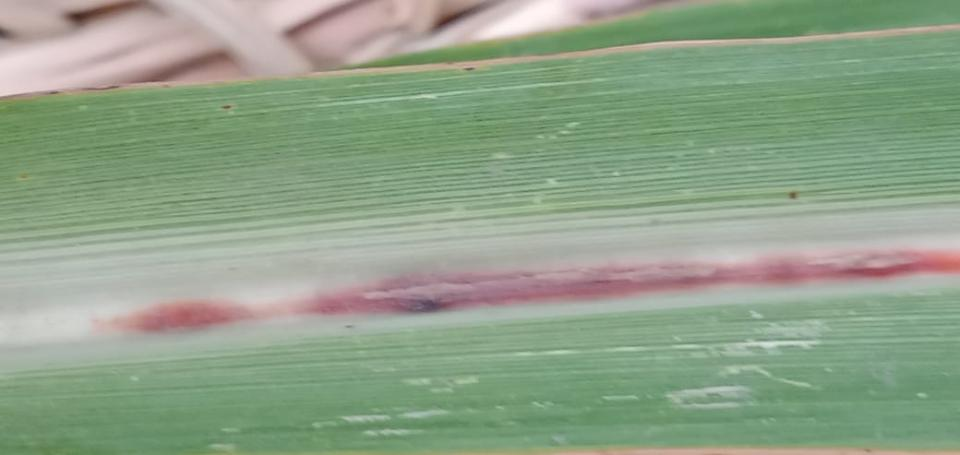RedRot: (98, 244, 959, 336)
Rust: (786, 190, 798, 202), (220, 104, 232, 110), (462, 67, 475, 71)
